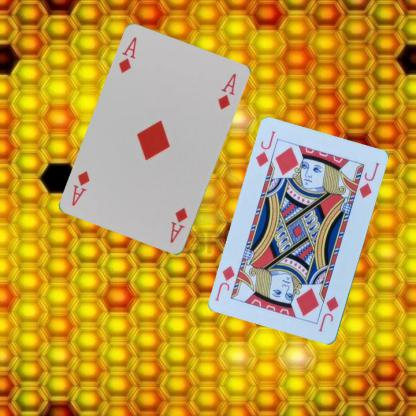Ad: (167, 205, 190, 245), (116, 35, 138, 75)
Jd: (253, 129, 277, 169), (316, 294, 340, 333)
